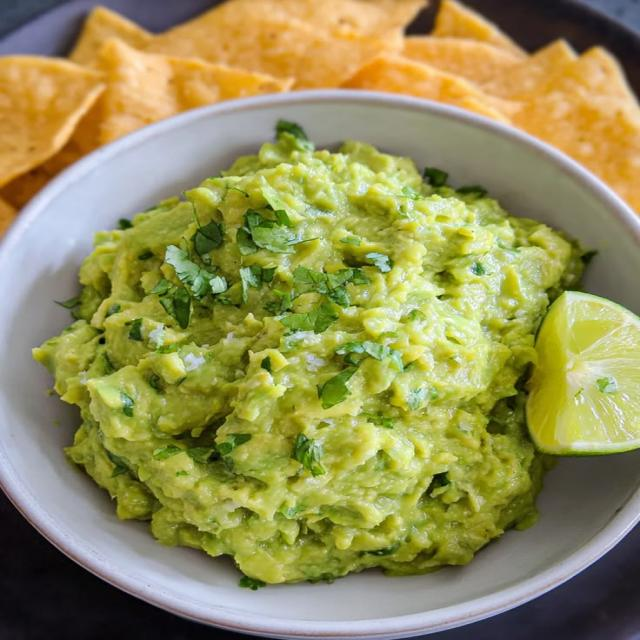avocado: (33, 122, 583, 587)
lemon: (526, 291, 639, 454)
